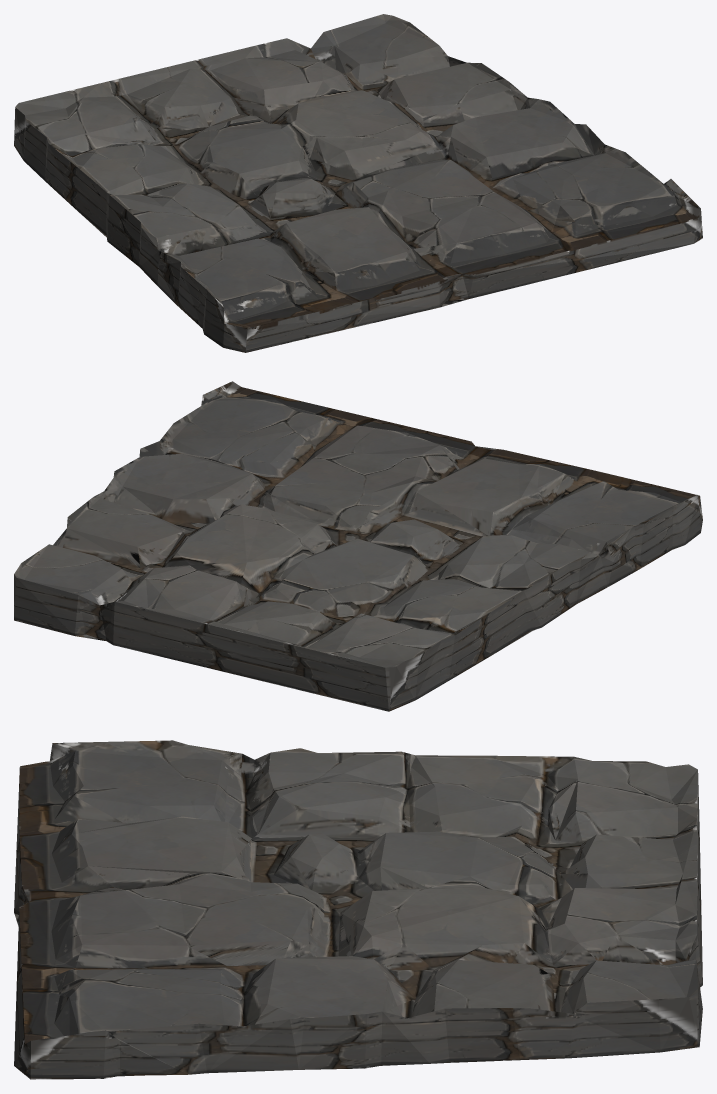
Rendered from SM_Dungeon_Floor_A_LOD1.fbx.
3 views of the same model, one above another, from view 1: azimuth 30°, elevation 25°; view 2: azimuth 150°, elevation 25°; view 3: azimuth 270°, elevation 25° (orthographic). The views are drawn at different scales.
Visible parts, largest first — view 1: SM_Dungeon_Floor_A_LOD1; view 2: SM_Dungeon_Floor_A_LOD1; view 3: SM_Dungeon_Floor_A_LOD1.
Boxes of the visible parts, x1,y1,x2,y2 form: SM_Dungeon_Floor_A_LOD1: [14, 14, 702, 352]; SM_Dungeon_Floor_A_LOD1: [14, 381, 702, 711]; SM_Dungeon_Floor_A_LOD1: [14, 740, 702, 1079].
Bounding box in the file's own units: 4 × 0.3564 × 4.01.
